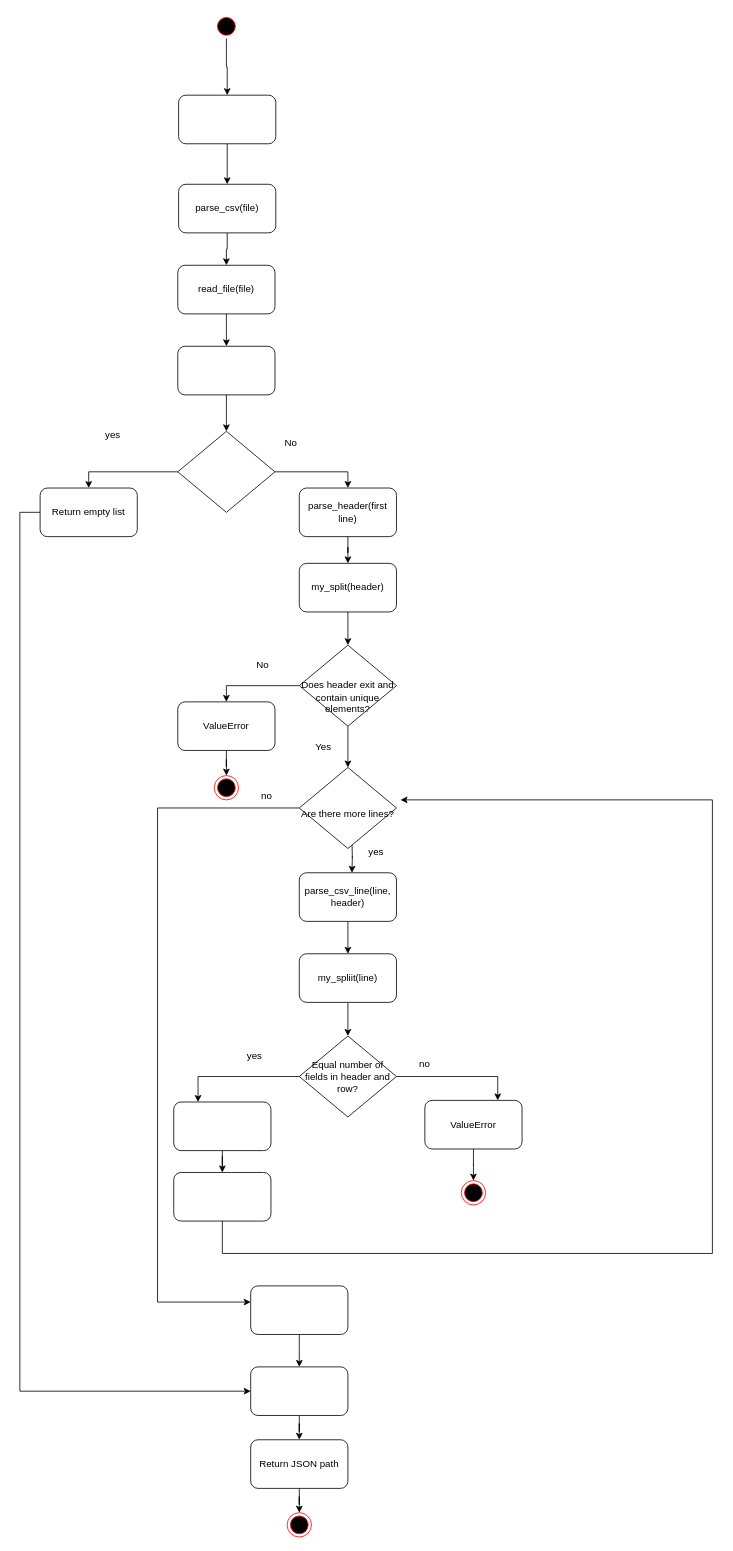
Image size: 733x1551. Some labels were removed from this diagram. Each missing label, with the box of its shape:
Add dictionary to list: (173, 1172, 271, 1221)
Convert list of dictionaries to JSON: (250, 1366, 348, 1415)
Is file empty?: (177, 431, 275, 512)
make dictionary: (173, 1101, 271, 1151)
Return list of dictionaries: (250, 1285, 348, 1334)
Split text into lines: (177, 345, 275, 395)
write_json_file(file): (178, 94, 276, 144)
